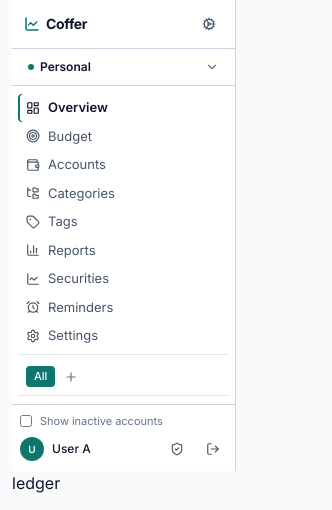
AuthedSidebar › offers "Manage ledgers" in the ledger dropdown
Click the button with aria-label "switch ledger" at (124, 67), box [20, 55, 227, 79]
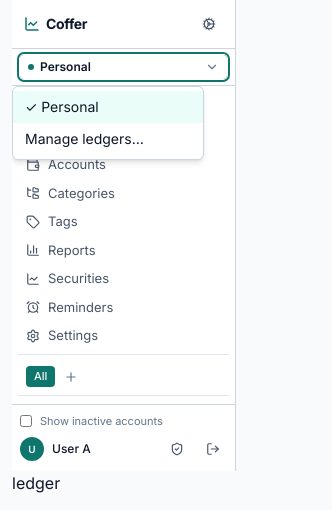
Check: the menu item "Manage ledgers…" is shown, box [13, 123, 203, 155]
Check: the menu item "✓ Personal" is shown, box [13, 91, 203, 123]
